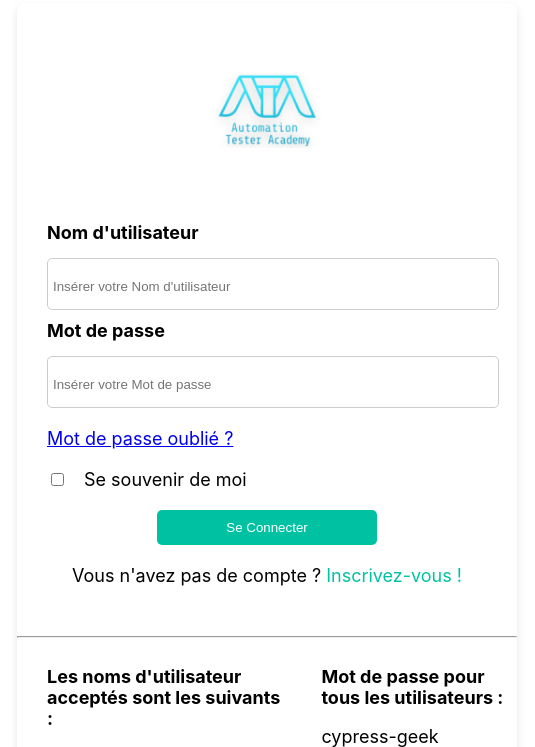
Test case: Login Component › should show an error for incorrect login credentials
# Enter incorrect login credentials
Type "invalid_username" into the field with test id "username-login" at [273, 284], box [47,258,499,310]
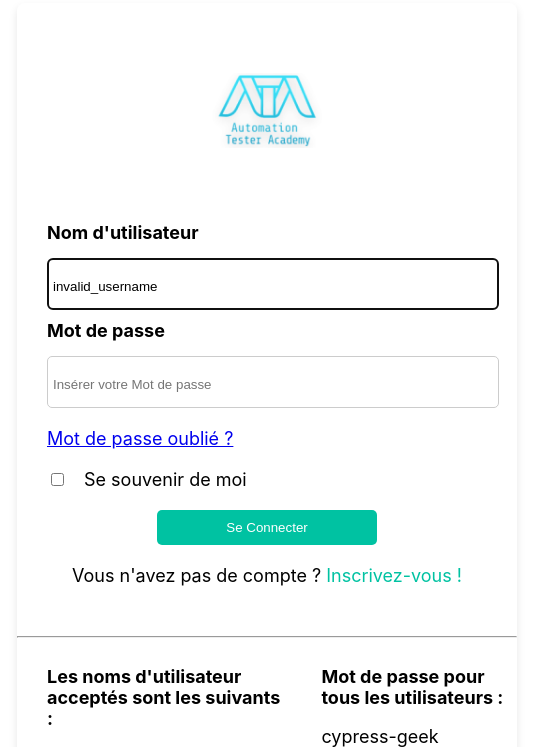
Type "invalid_password" into the password field with test id "password-login" at [273, 382], box [47,356,499,408]
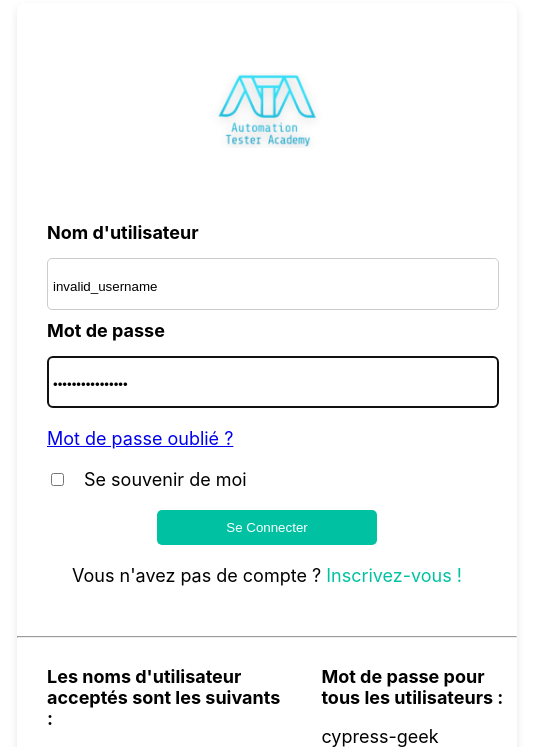
Click the button with test id "submit-login" at [267, 528], box [157,510,377,545]
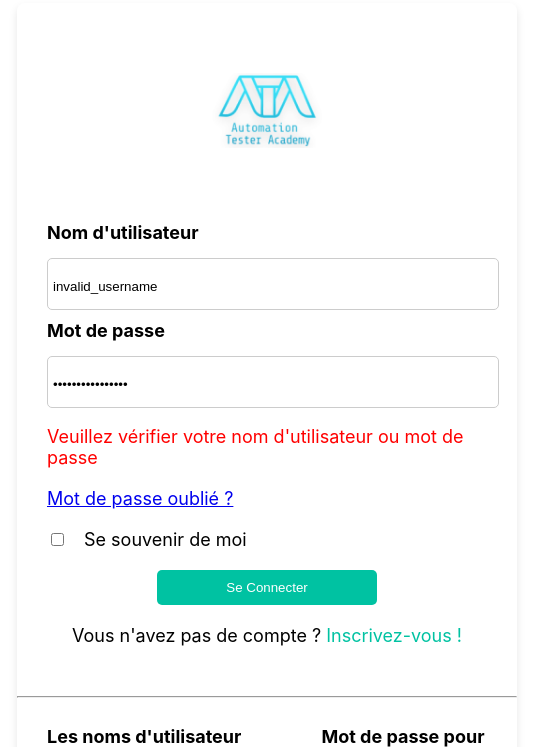
Result: the text with class "error-message" reads "Veuillez vérifier votre nom d'utilisateur ou mot de passe" at [47,426,487,468]
